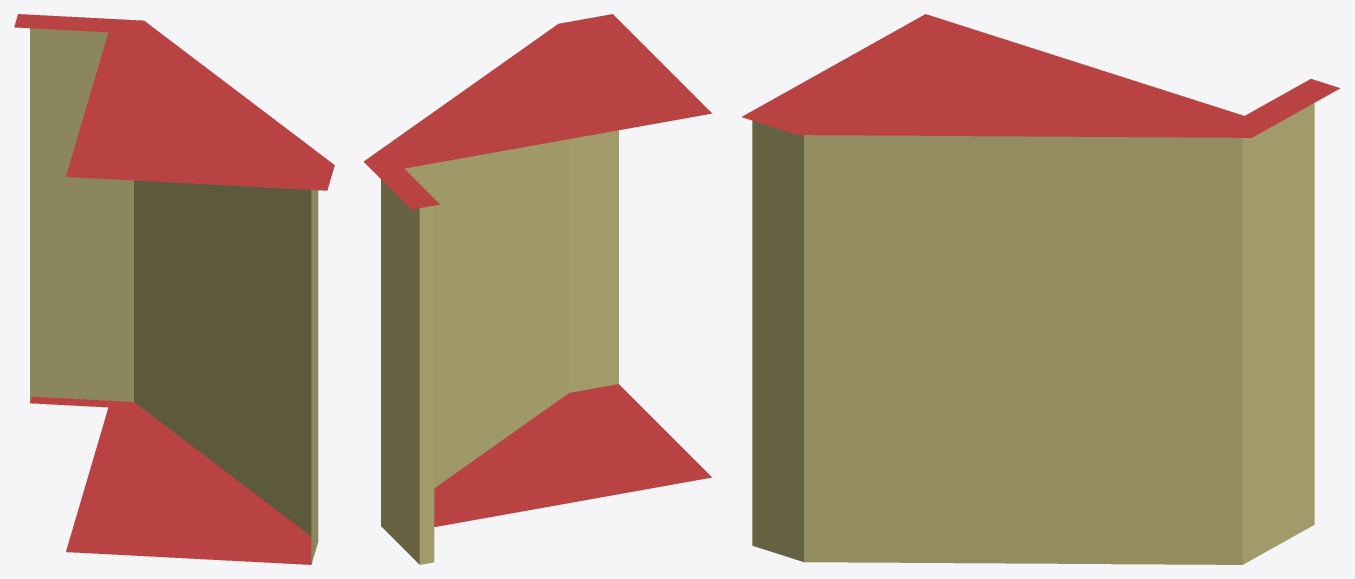
The picture shows the model from 3 angles, left to right: view 1: azimuth 30°, elevation 25°; view 2: azimuth 150°, elevation 25°; view 3: azimuth 270°, elevation 25°; orthographic projection. The views are drawn at different scales.
Bounding box in the file's own units: 3.94 × 8.04 × 6.44.
